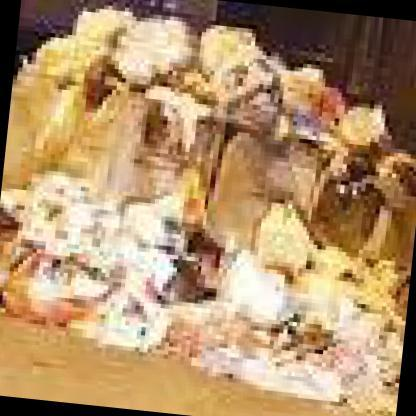Garbage: (33, 241, 249, 345), (265, 262, 402, 398), (0, 199, 150, 323), (221, 232, 314, 376), (30, 2, 166, 90), (125, 25, 268, 96), (262, 80, 387, 146)
